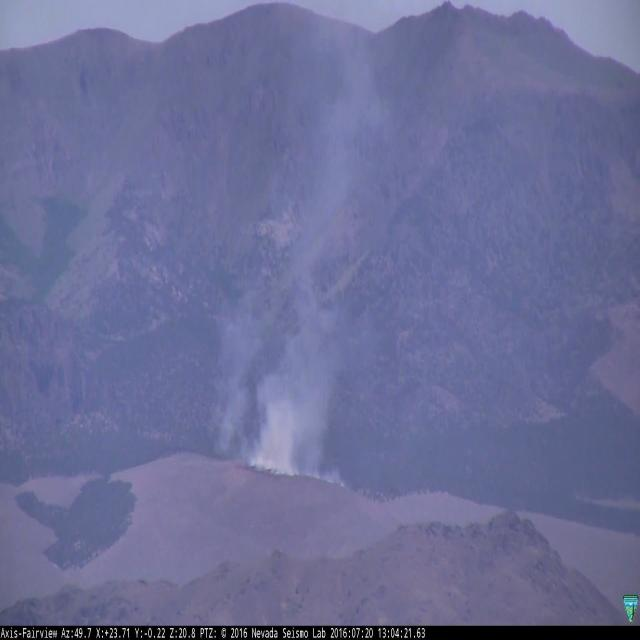smoke: (216, 278, 353, 492)
